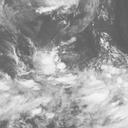cyclone: (26, 50, 98, 114)
